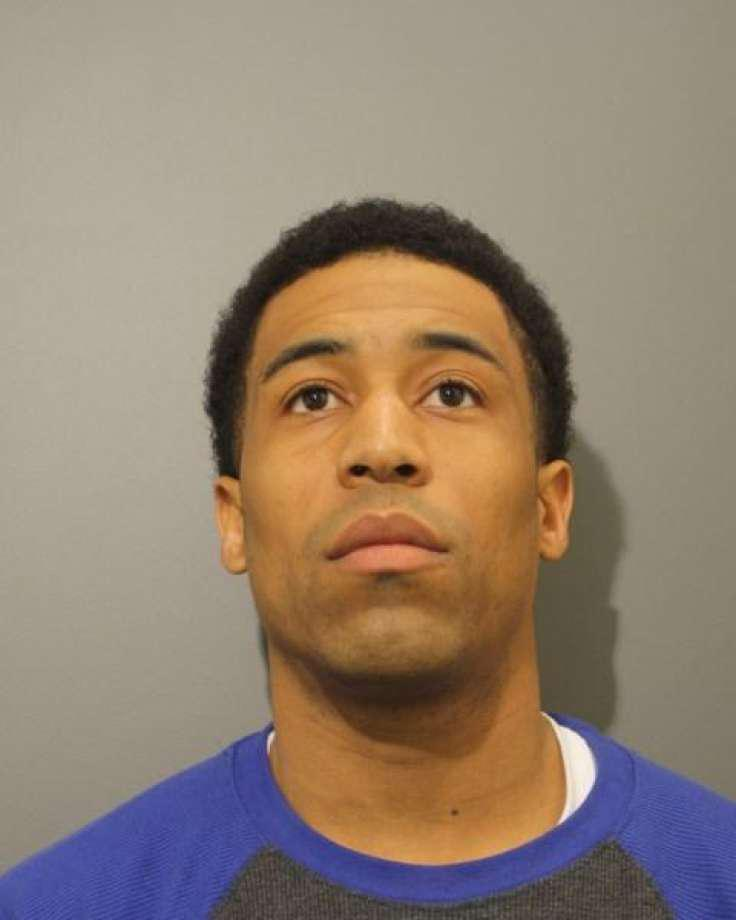Sober: (259, 280, 538, 644)
